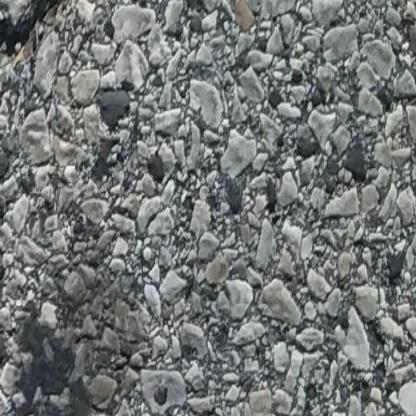Cracks: (0, 0, 80, 62)
